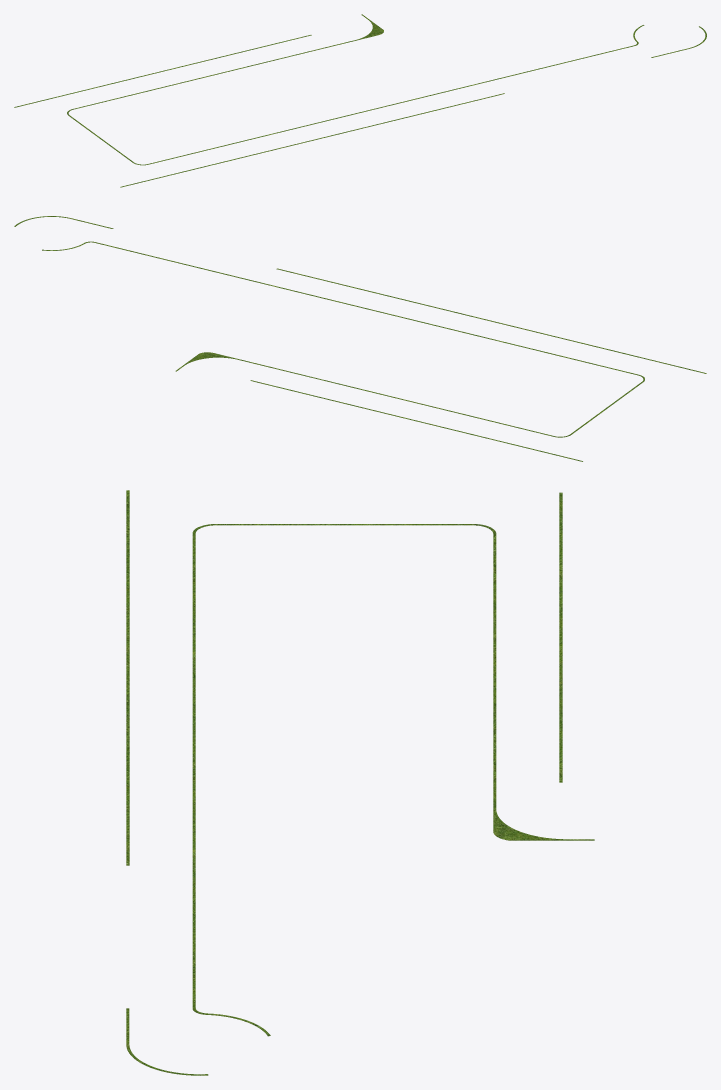
File: pasto ok final.fbx
3 views of the same model, one above another, from view 1: azimuth 30°, elevation 25°; view 2: azimuth 150°, elevation 25°; view 3: azimuth 270°, elevation 25° (orthographic). The views are drawn at different scales.
Parts seen in each view (by area): view 1: Layer:3D PASTO 33; view 2: Layer:3D PASTO 33; view 3: Layer:3D PASTO 33.
Boxes of the visible parts, x1,y1,x2,y2 form: Layer:3D PASTO 33: (14, 14, 706, 187); Layer:3D PASTO 33: (14, 216, 706, 461); Layer:3D PASTO 33: (126, 490, 594, 1075).
Bounding box in the file's own units: 177 × 0.02 × 59.99.
Materials: 1 (1 with a texture image).
